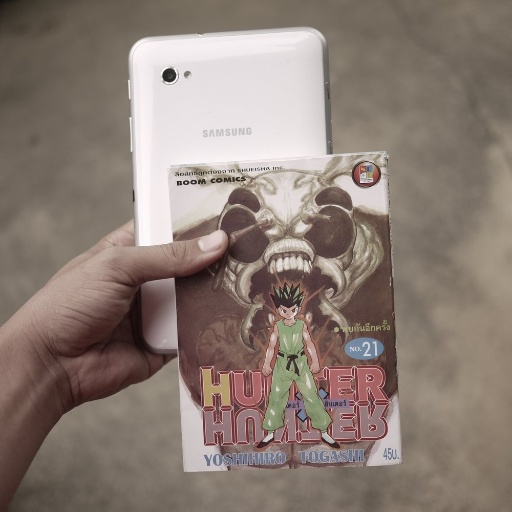hand: (0, 172, 193, 505)
